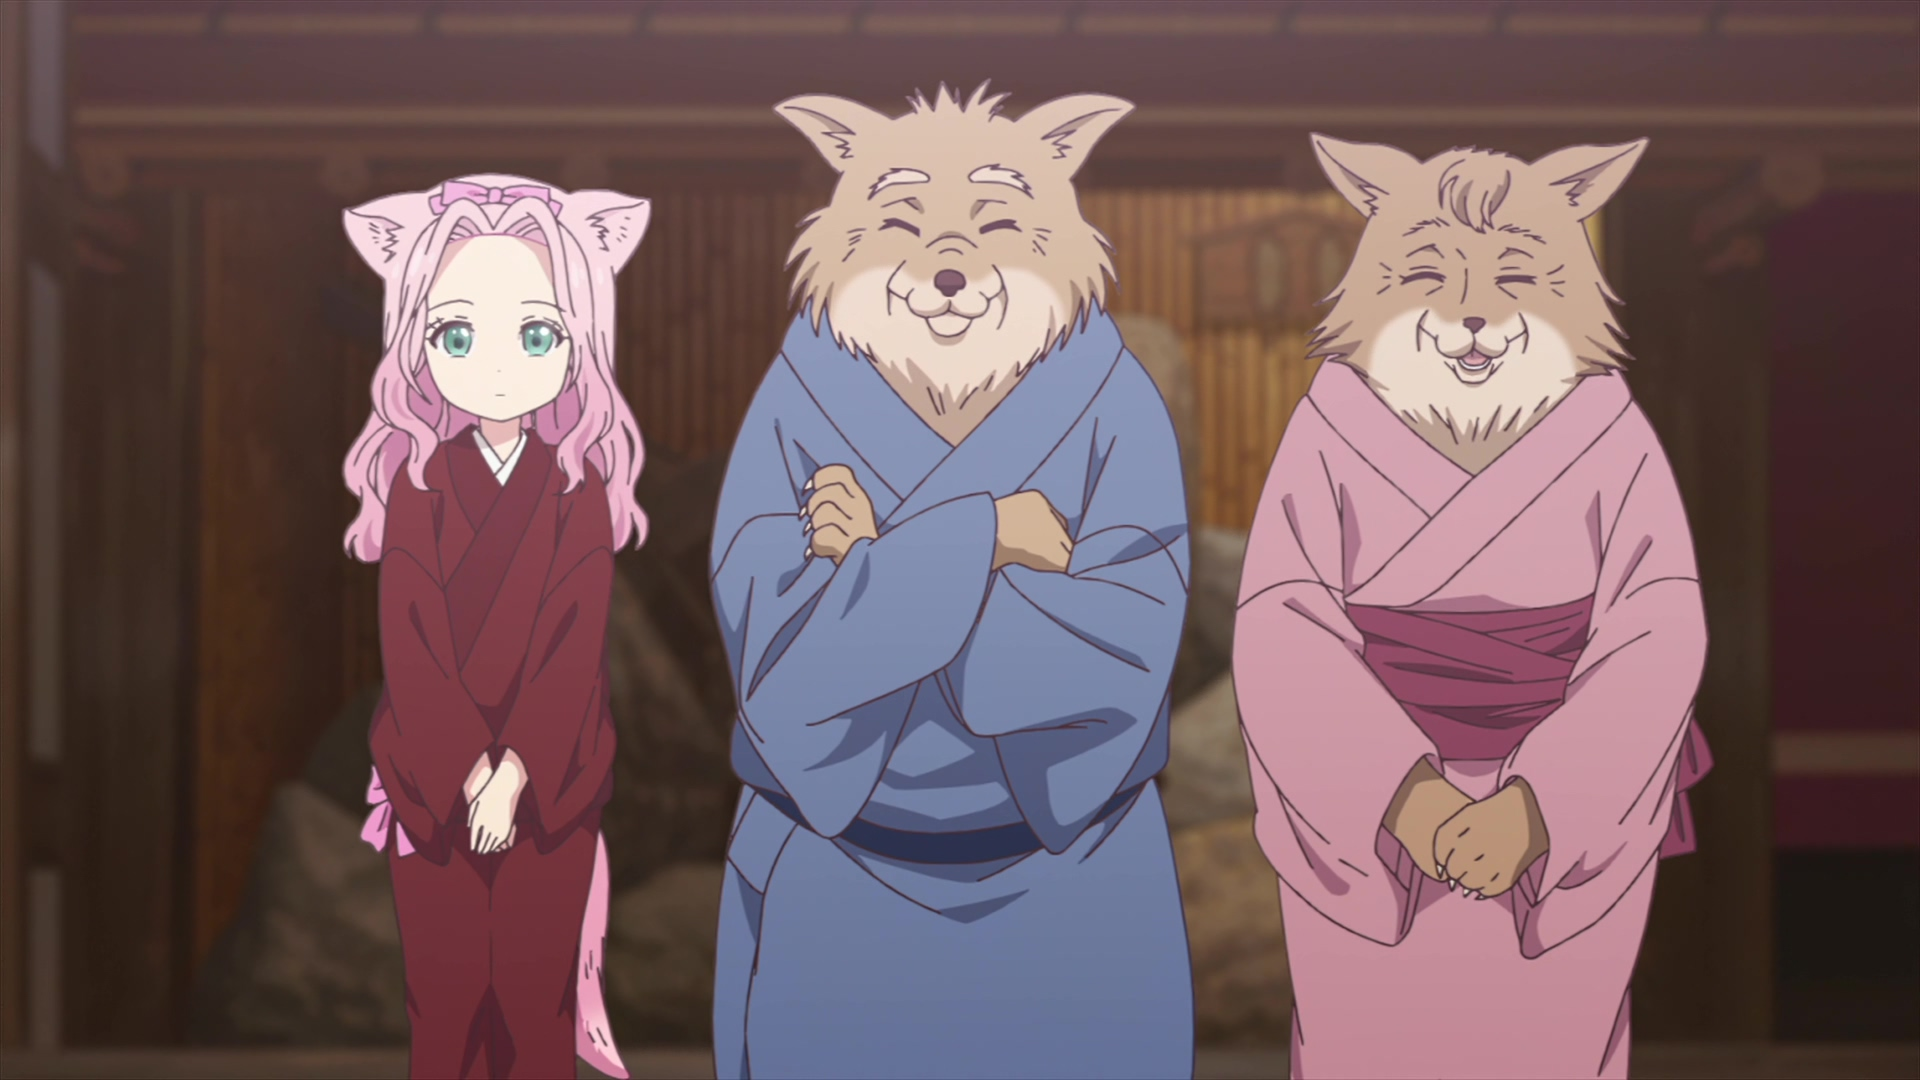其他: (708, 80, 1192, 1080), (1233, 135, 1712, 1080)
莲: (340, 175, 651, 1080)
